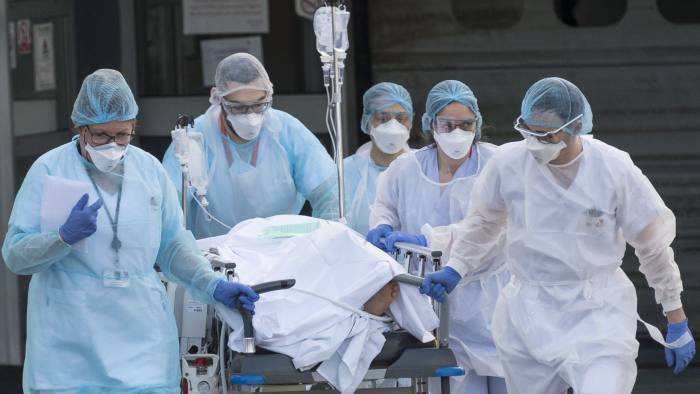Coverall: (8, 142, 188, 394), (485, 140, 638, 394), (168, 111, 338, 226), (378, 146, 508, 236)
Gloves: (57, 188, 104, 249), (657, 315, 697, 373), (206, 273, 259, 316), (417, 266, 466, 305), (386, 230, 431, 256), (365, 219, 393, 255)
with_mask: (521, 122, 571, 167), (86, 125, 130, 175), (368, 108, 412, 156), (435, 114, 478, 160), (230, 92, 268, 140)
